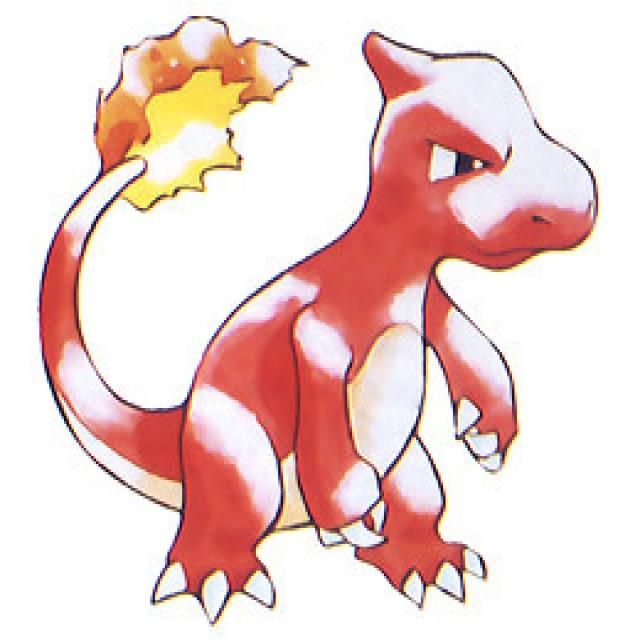Charmeleon: (139, 23, 601, 614)
